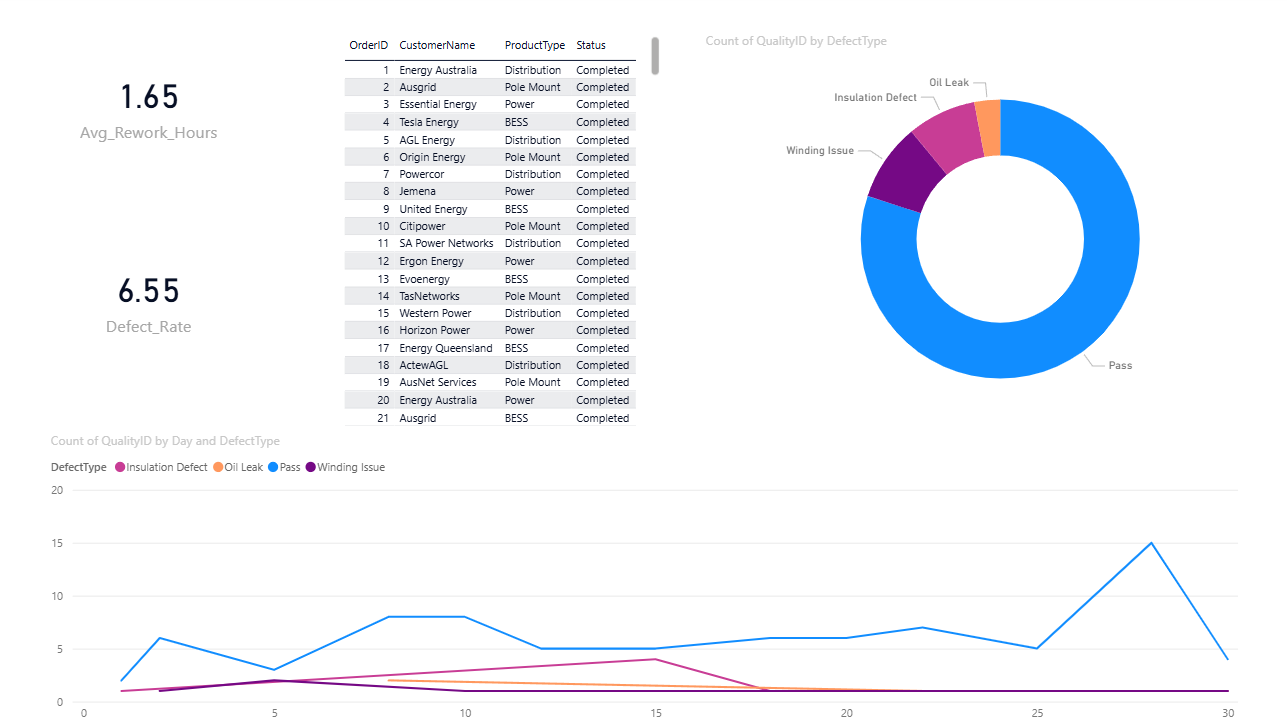

This screenshot's page, from the dashboard's own definition file:
{"tool":"powerbi","page":{"name":"Page 2","canvas":[1280,720],"ordinal":1},"visuals":[{"type":"card","fields":{"Values":["Daily_Production.Defect_Rate"]},"box":[0,216.5,306.9,163.1],"z":0},{"type":"card","fields":{"Values":["Quality_Metrics.Avg_Rework_Hours"]},"box":[0,0,306.9,216.5],"z":1000},{"type":"donutChart","fields":{"Category":["Quality_Metrics.DefectType"],"Y":["CountNonNull(Quality_Metrics.QualityID)"]},"box":[693.3,37,586.4,390.5],"z":2000},{"type":"lineChart","fields":{"Category":["Quality_Metrics.InspectionDate.Variation.Date Hierarchy.Day"],"Y":["CountNonNull(Quality_Metrics.QualityID)"],"Series":["Quality_Metrics.DefectType"]},"box":[52.1,427.5,1171.5,291.8],"z":3000},{"type":"tableEx","fields":{"Values":["Production_Orders.OrderID","Production_Orders.CustomerName","Quality_Metrics.ProductType","Production_Orders.Status"]},"box":[338.4,37,319.3,390.5],"z":4000}]}

Visuals, with their boxes in screenshot pixels (x1, y1, x2, y2), scaled from the page's 1280x720 canvas onto the 1287x723 screenshot:
card - Daily_Production.Defect_Rate: [x1=0, y1=217, x2=309, y2=381]
card - Quality_Metrics.Avg_Rework_Hours: [x1=0, y1=0, x2=309, y2=217]
donutChart - Quality_Metrics.DefectType x CountNonNull(Quality_Metrics.QualityID): [x1=697, y1=37, x2=1286, y2=429]
lineChart - Quality_Metrics.InspectionDate.Variation.Date Hierarchy.Day x CountNonNull(Quality_Metrics.QualityID): [x1=52, y1=429, x2=1230, y2=722]
tableEx - Production_Orders.OrderID x Production_Orders.CustomerName: [x1=340, y1=37, x2=661, y2=429]
